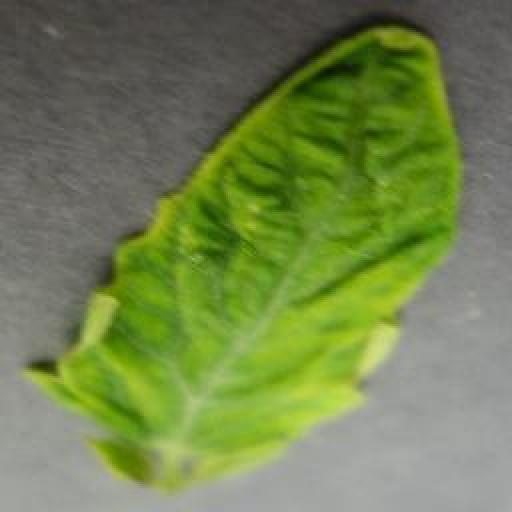disease_tomato: (30, 27, 460, 489)
